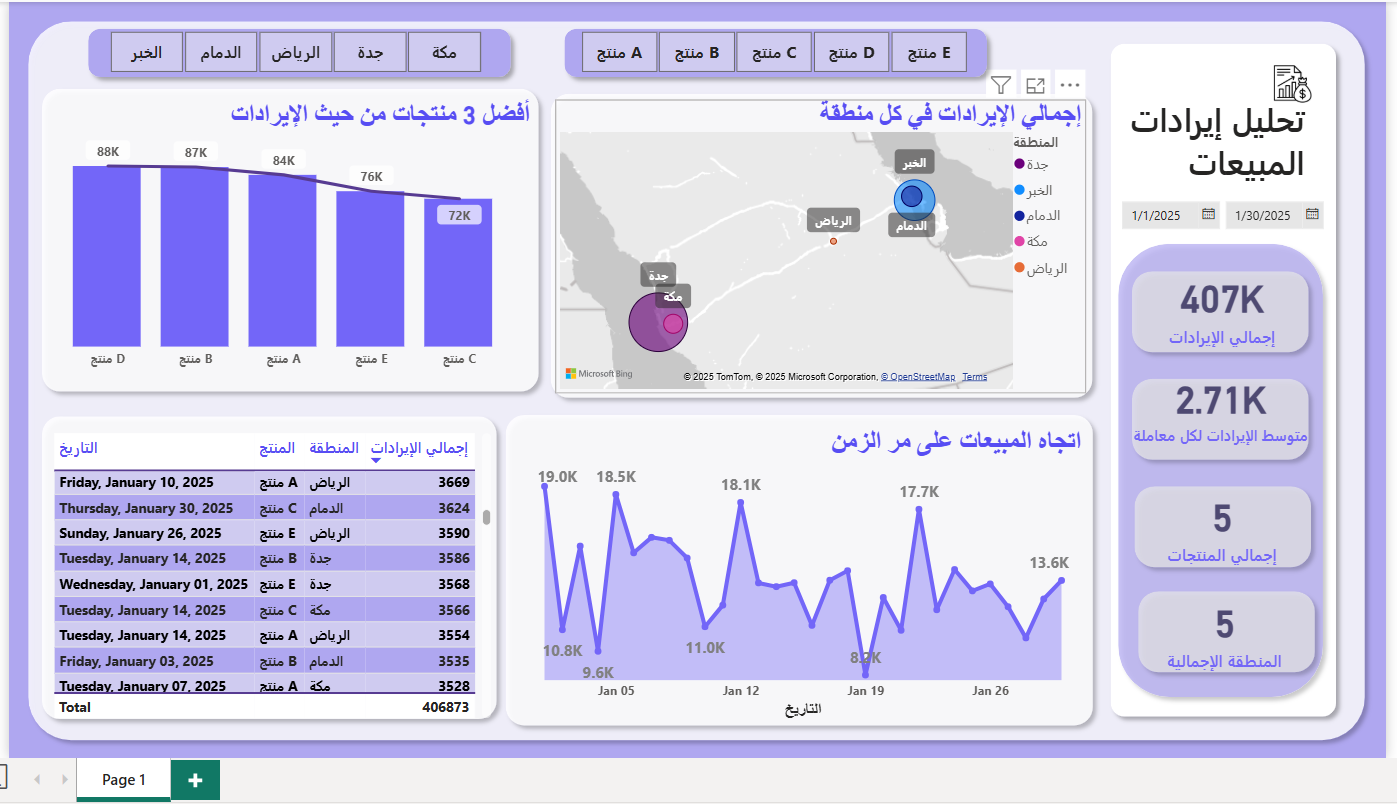

The dashboard page shown, as its layout file describes it:
{"tool":"powerbi","page":{"name":"Page 1","canvas":[1350,741],"ordinal":0},"visuals":[{"type":"shape","box":[9.8,9.8,1327.7,722.6],"z":0},{"type":"shape","box":[1070.5,31.8,238.8,677.3],"z":1000},{"type":"shape","box":[521.8,80.8,548.7,316],"z":2000},{"type":"shape","box":[477.1,396,593.3,322.3],"z":3000},{"type":"shape","box":[23.7,76.2,504.6,314.8],"z":4000},{"type":"map","title":"إجمالي الإيرادات في كل منطقة","fields":{"Series":["Sheet1.المنطقة"],"Size":["Sheet1.إجمالي الإيرادات"],"Category":["Sheet1.المنطقة"]},"box":[535.2,95.5,520.5,287.8],"z":5000},{"type":"lineStackedColumnComboChart","title":"أفضل 3 منتجات من حيث الإيرادات","fields":{"Category":["Sheet1.المنتج"],"Y":["Sheet1.إجمالي الإيرادات"],"Y2":["Sum(Sheet1.الإيرادات)"]},"box":[23.7,94.9,492.1,272.3],"z":6000},{"type":"areaChart","title":"اتجاه المبيعات على مر الزمن","fields":{"Category":["Sheet1.التاريخ"],"Y":["Sheet1.إجمالي الإيرادات"]},"box":[500.9,415.9,554.6,291],"z":7000},{"type":"shape","box":[535.5,16.7,432,65.5],"z":8000},{"type":"slicer","title":"أعلى 3 منتجات","fields":{"Values":["Sheet1.المنتج"]},"box":[535.5,22.6,427.2,53.6],"z":9000},{"type":"shape","box":[69,16.7,432,65.5],"z":10000},{"type":"slicer","title":"أعلى 3 منتجات","fields":{"Values":["Sheet1.المنطقة"]},"box":[73.8,22.6,413,53.6],"z":11000},{"type":"shape","box":[1078,227.3,218.6,462.2],"z":12000},{"type":"textbox","box":[1019.1,87.9,255.9,140.4],"z":13000},{"type":"image","box":[1234.6,53.9,46.5,52.7],"z":14000},{"type":"shape","box":[23.7,397.2,463.4,314.8],"z":15000},{"type":"tableEx","title":"أفضل 3 منتجات من حيث الإيرادات","fields":{"Values":["Sheet1.التاريخ","Sheet1.المنتج","Sheet1.المنطقة","Sheet1.إجمالي الإيرادات"]},"box":[38,417.7,439.7,289.1],"z":16000},{"type":"shape","box":[1094.2,465.9,191.1,97.4],"z":18500},{"type":"shape","box":[1091.2,359.5,191.1,97.4],"z":19500},{"type":"shape","box":[1097.4,568.3,191.1,97.4],"z":19875},{"type":"shape","box":[1090.7,254.8,191.1,97.4],"z":20000},{"type":"card","fields":{"Values":["Sheet1.Total Sales"]},"box":[1120.7,254.8,136.1,88.7],"z":22000},{"type":"card","fields":{"Values":["Sheet1.Avg Revenue per Transaction"]},"box":[1088.7,349.5,197.4,94.9],"z":22500},{"type":"card","fields":{"Values":["Count(Sheet1.المنتج)"]},"box":[1120.4,465.9,136.1,96.2],"z":23000},{"type":"card","fields":{"Values":["Count(Sheet1.المنطقة)"]},"box":[1123.7,573.3,136.1,87.4],"z":23500},{"type":"slicer","title":"أعلى 3 منتجات","fields":{"Values":["Sheet1.التاريخ"]},"box":[1078,184.9,241.1,53.7],"z":23501}]}

Visuals, with their boxes on the page's 1350x741 design canvas (x1, y1, x2, y2). These are canvas units, not pixel positions in the 1397x804 screenshot, which may show the page scaled, cropped or inside an application window:
shape: [10,10,1338,732]
shape: [1070,32,1309,709]
shape: [522,81,1070,397]
shape: [477,396,1070,718]
shape: [24,76,528,391]
"إجمالي الإيرادات في كل منطقة" map: [535,96,1056,383]
"أفضل 3 منتجات من حيث الإيرادات" lineStackedColumnComboChart: [24,95,516,367]
"اتجاه المبيعات على مر الزمن" areaChart: [501,416,1056,707]
shape: [536,17,968,82]
"أعلى 3 منتجات" slicer: [536,23,963,76]
shape: [69,17,501,82]
"أعلى 3 منتجات" slicer: [74,23,487,76]
shape: [1078,227,1297,690]
textbox: [1019,88,1275,228]
image: [1235,54,1281,107]
shape: [24,397,487,712]
"أفضل 3 منتجات من حيث الإيرادات" tableEx: [38,418,478,707]
shape: [1094,466,1285,563]
shape: [1091,360,1282,457]
shape: [1097,568,1288,666]
shape: [1091,255,1282,352]
card - Sheet1.Total Sales: [1121,255,1257,344]
card - Sheet1.Avg Revenue per Transaction: [1089,350,1286,444]
card - Count(Sheet1.المنتج): [1120,466,1256,562]
card - Count(Sheet1.المنطقة): [1124,573,1260,661]
"أعلى 3 منتجات" slicer: [1078,185,1319,239]
